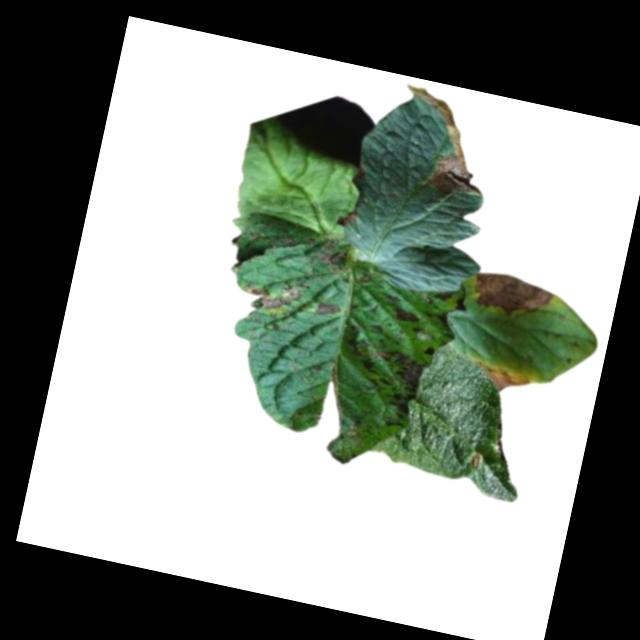Early_blight: (383, 80, 493, 201), (349, 341, 426, 429), (467, 270, 553, 326), (243, 274, 304, 321), (471, 360, 532, 399), (315, 237, 352, 278), (432, 279, 469, 315), (335, 209, 361, 231), (391, 306, 419, 325), (317, 300, 342, 318), (467, 450, 486, 470), (423, 344, 438, 358)
